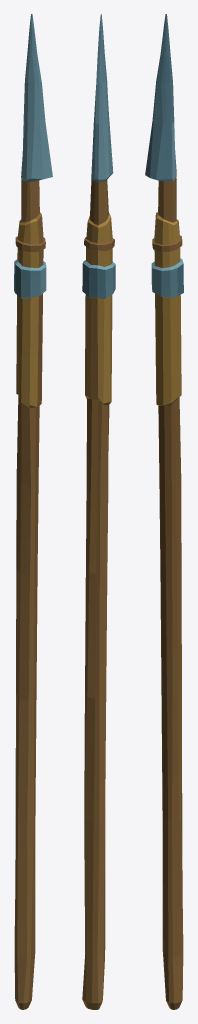
Rendered from spear.glb.
The picture shows the model from 3 angles, left to right: view 1: azimuth 90°, elevation 25°; view 2: azimuth 150°, elevation 25°; view 3: azimuth 270°, elevation 25°; orthographic projection.
Visible parts, largest first — view 1: spear; view 2: spear; view 3: spear.
Part boxes in pixels (x1,y1,x2,y2): spear: (14, 14, 52, 1009); spear: (82, 14, 115, 1009); spear: (145, 14, 183, 1009).
Bounding box in the file's own units: 0.058 × 1.95 × 0.0694.
Materials: 1 (1 with a texture image).
